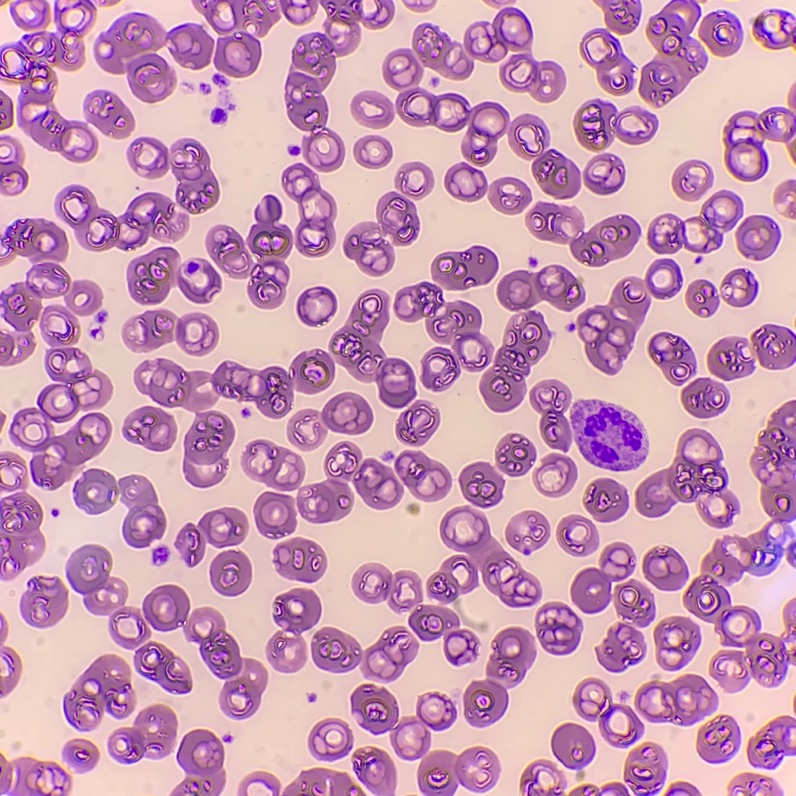RBC: (383, 7, 580, 198), (10, 305, 111, 489), (684, 532, 795, 691), (143, 585, 267, 718), (0, 219, 101, 365), (134, 350, 334, 417), (286, 0, 362, 171), (1, 30, 97, 161), (352, 566, 478, 664), (577, 259, 681, 373), (427, 507, 541, 606), (394, 282, 492, 390), (344, 162, 433, 275), (635, 429, 738, 526), (329, 290, 414, 407), (206, 196, 292, 308), (57, 185, 188, 250), (297, 442, 402, 522), (68, 545, 149, 648), (94, 14, 175, 102), (463, 627, 535, 726), (526, 203, 639, 266), (639, 0, 706, 105), (75, 469, 165, 547), (480, 310, 549, 411), (128, 137, 218, 213), (193, 0, 278, 77), (351, 684, 430, 759), (648, 191, 742, 253), (311, 627, 417, 681), (580, 0, 640, 94), (751, 401, 795, 523), (127, 247, 221, 304), (63, 655, 134, 730), (725, 107, 795, 181), (571, 400, 641, 470), (282, 164, 335, 256), (573, 679, 641, 746), (267, 588, 320, 672), (571, 543, 633, 612), (574, 100, 657, 150), (123, 310, 217, 354), (176, 508, 247, 565), (635, 675, 717, 724), (497, 265, 584, 310), (183, 411, 234, 487), (108, 705, 176, 762), (418, 748, 498, 795), (0, 493, 44, 578), (172, 730, 224, 795), (500, 53, 565, 102), (242, 440, 303, 490), (134, 642, 191, 693), (431, 246, 497, 289), (530, 380, 571, 449), (395, 451, 451, 500), (0, 757, 70, 795), (747, 716, 795, 766), (649, 332, 695, 384), (535, 602, 581, 654), (654, 617, 699, 670), (597, 623, 645, 672), (274, 538, 326, 582), (123, 407, 176, 450), (21, 578, 67, 626), (86, 91, 133, 137), (321, 393, 372, 434), (624, 743, 665, 794), (352, 747, 395, 795), (751, 324, 795, 369), (697, 715, 739, 762), (396, 401, 439, 445), (460, 462, 503, 506), (254, 492, 295, 538), (584, 478, 627, 521), (551, 723, 594, 766), (699, 11, 741, 55), (169, 26, 213, 68), (708, 337, 752, 379), (643, 548, 687, 590), (737, 215, 778, 259), (210, 551, 251, 595), (614, 581, 654, 626), (682, 378, 728, 417), (506, 511, 549, 552), (309, 719, 352, 759), (495, 434, 535, 476), (536, 454, 576, 496), (557, 515, 598, 555), (752, 10, 795, 48), (584, 154, 624, 194), (673, 160, 712, 200), (445, 163, 486, 200), (351, 91, 393, 127), (297, 287, 336, 325), (489, 177, 530, 213), (522, 761, 564, 795), (721, 269, 756, 306), (284, 768, 328, 795), (354, 136, 391, 168), (686, 280, 718, 316), (731, 773, 782, 795), (63, 739, 98, 771), (426, 693, 456, 729), (288, 410, 316, 446), (0, 648, 20, 696), (0, 161, 27, 194), (279, 0, 316, 24), (365, 0, 393, 28), (330, 772, 352, 795), (774, 180, 795, 202), (0, 93, 12, 129), (784, 601, 795, 639), (255, 772, 278, 788), (674, 782, 698, 795), (152, 546, 168, 564), (32, 0, 48, 17), (571, 785, 594, 795), (211, 110, 226, 123), (611, 783, 627, 795), (7, 454, 21, 466), (786, 201, 795, 218), (788, 87, 795, 106), (77, 0, 90, 9), (15, 475, 24, 488), (0, 628, 6, 641)
